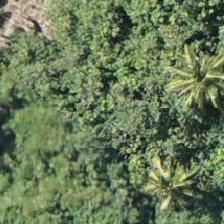coconut_tree: (25, 71, 115, 161), (150, 31, 223, 121), (77, 168, 167, 223), (0, 0, 60, 74)
